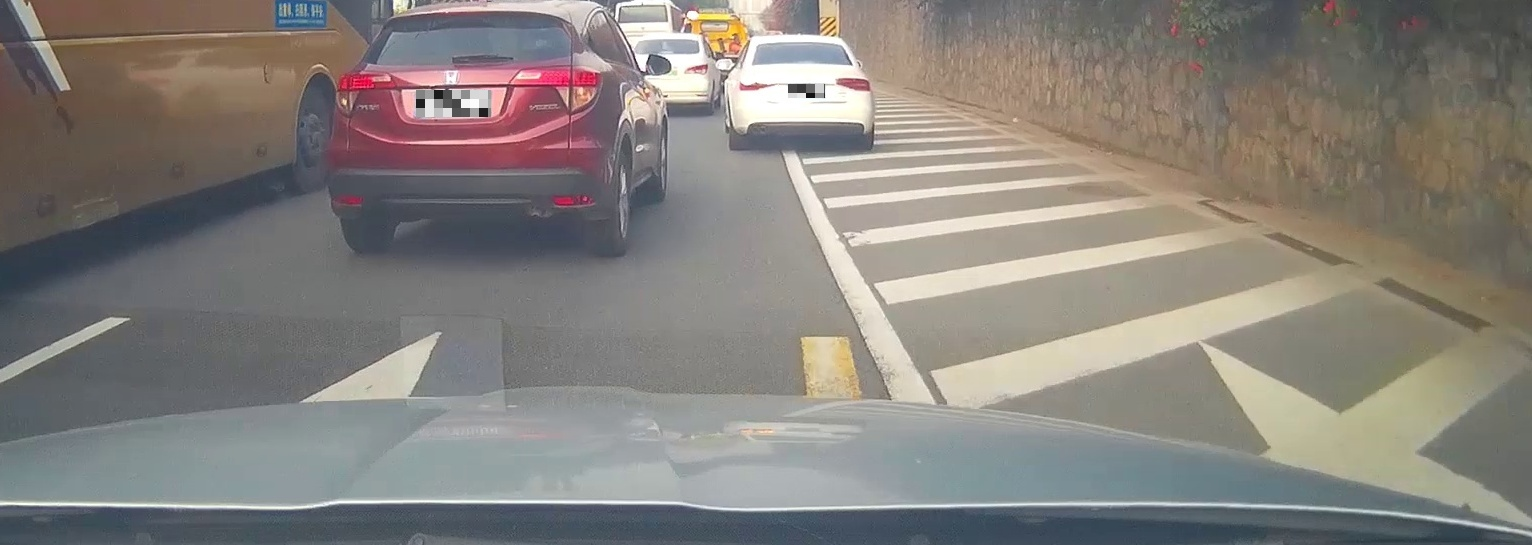L_light: (334, 69, 396, 118), (738, 80, 772, 91)
R_light: (509, 65, 602, 115), (836, 78, 870, 91)
T_light: (444, 8, 486, 17), (791, 42, 813, 46)
day-no: (331, 4, 607, 256)
night-left: (737, 35, 873, 151)
plate_1: (416, 90, 491, 117)
plate_2: (788, 84, 825, 98)
